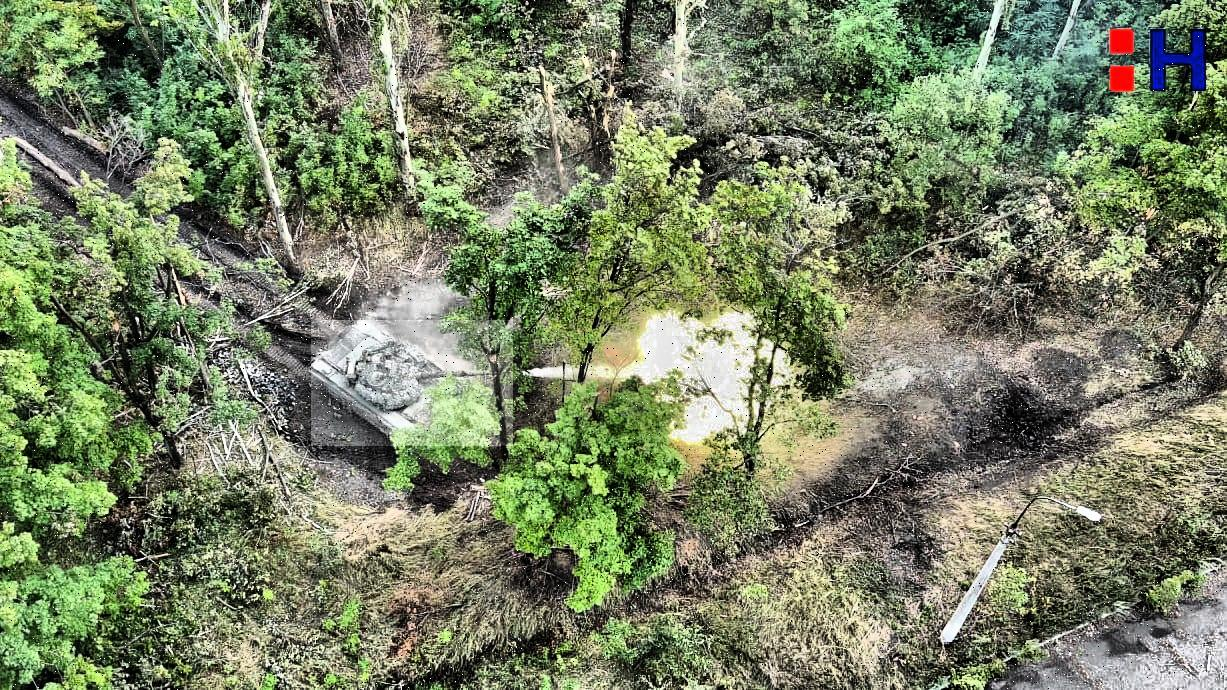military-vehicle: (311, 321, 513, 447)
